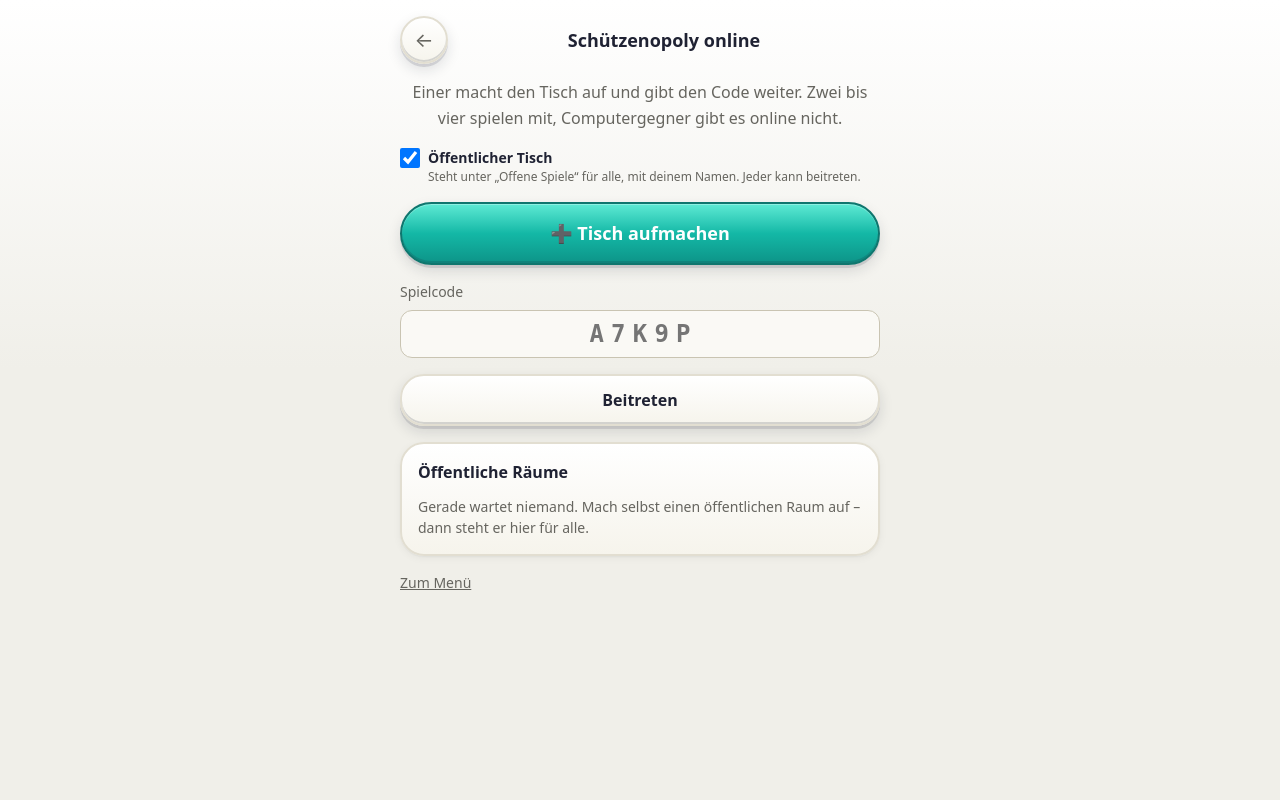
Test: Schützenopoly online › zeigt den Stand, den das Zugbuch ergibt – bis hin zum gekauften Feld
Click the button "➕ Tisch aufmachen" at x=640, y=234, box [400, 202, 880, 265]
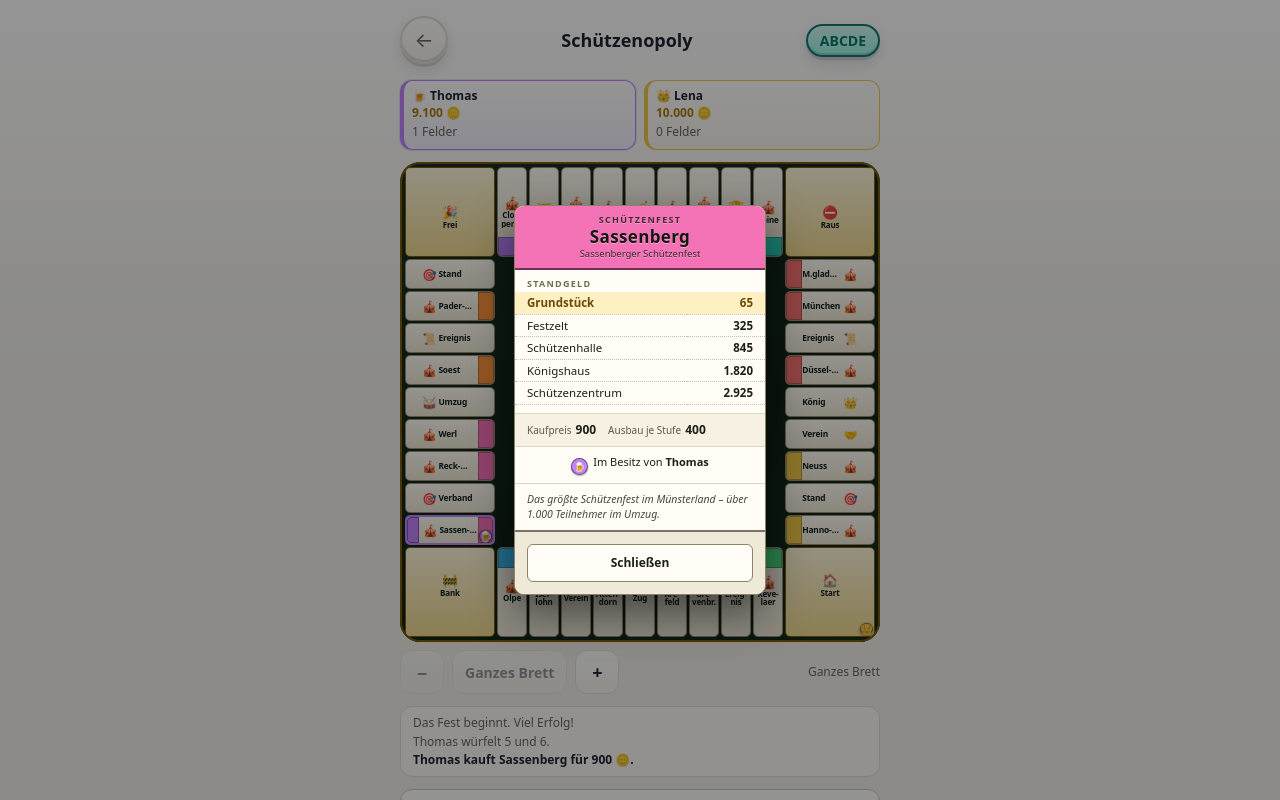
expect the list named "Mitspieler" shows "1 Felder": met, box [400, 80, 880, 150]
expect the list named "Mitspieler" shows "0 Felder": met, box [400, 80, 880, 150]
